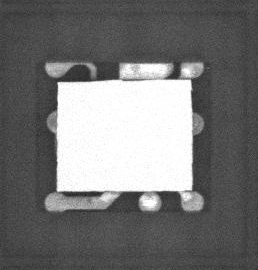DIE_BROKEN: (58, 78, 176, 84)
